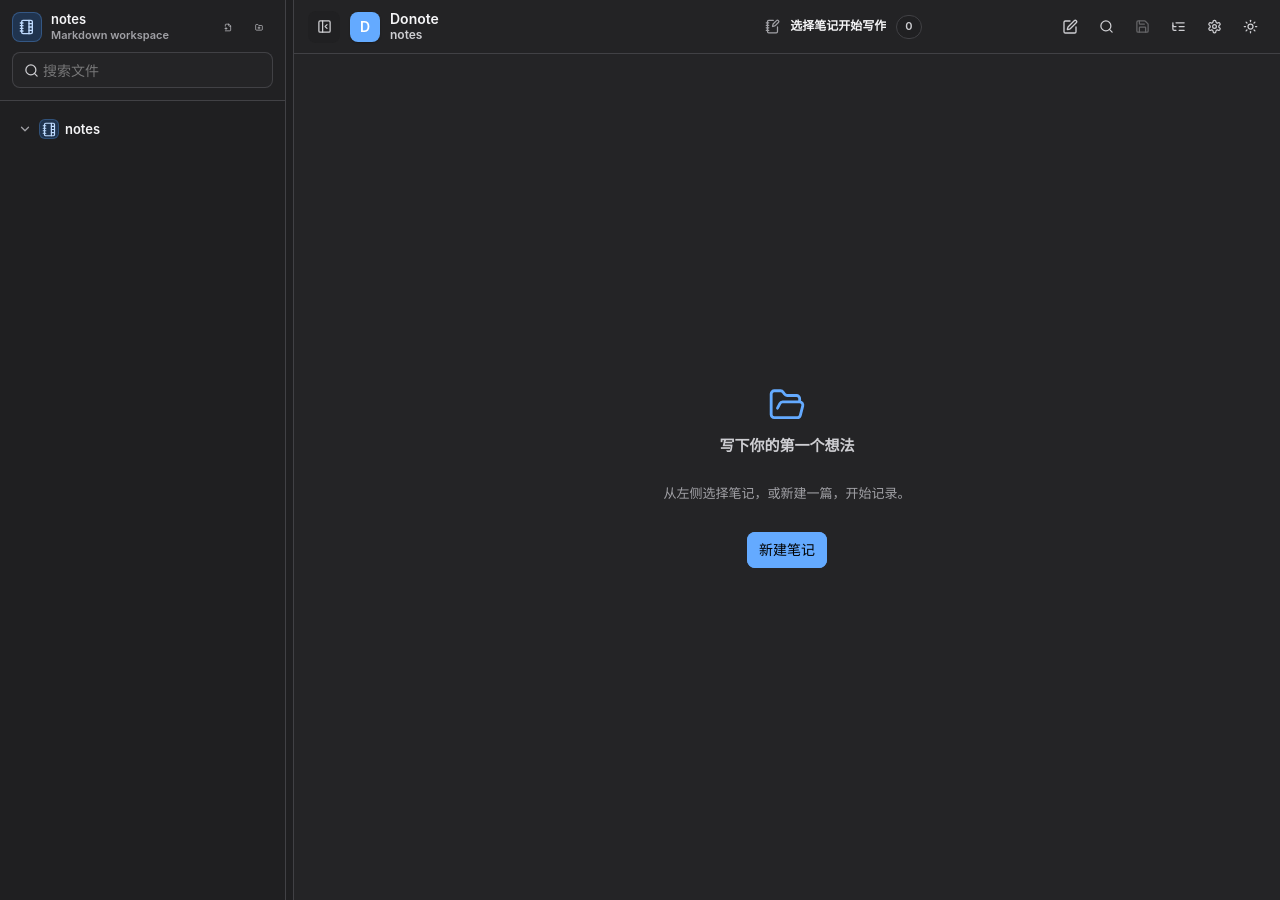
App shell › selects attachment directories through the native directory dialog
What coordinates should you click on to do the following:
click the button with test id "utility-settings"
I would click on:
 (1214, 26)
Its box is [1198,10,1230,42].
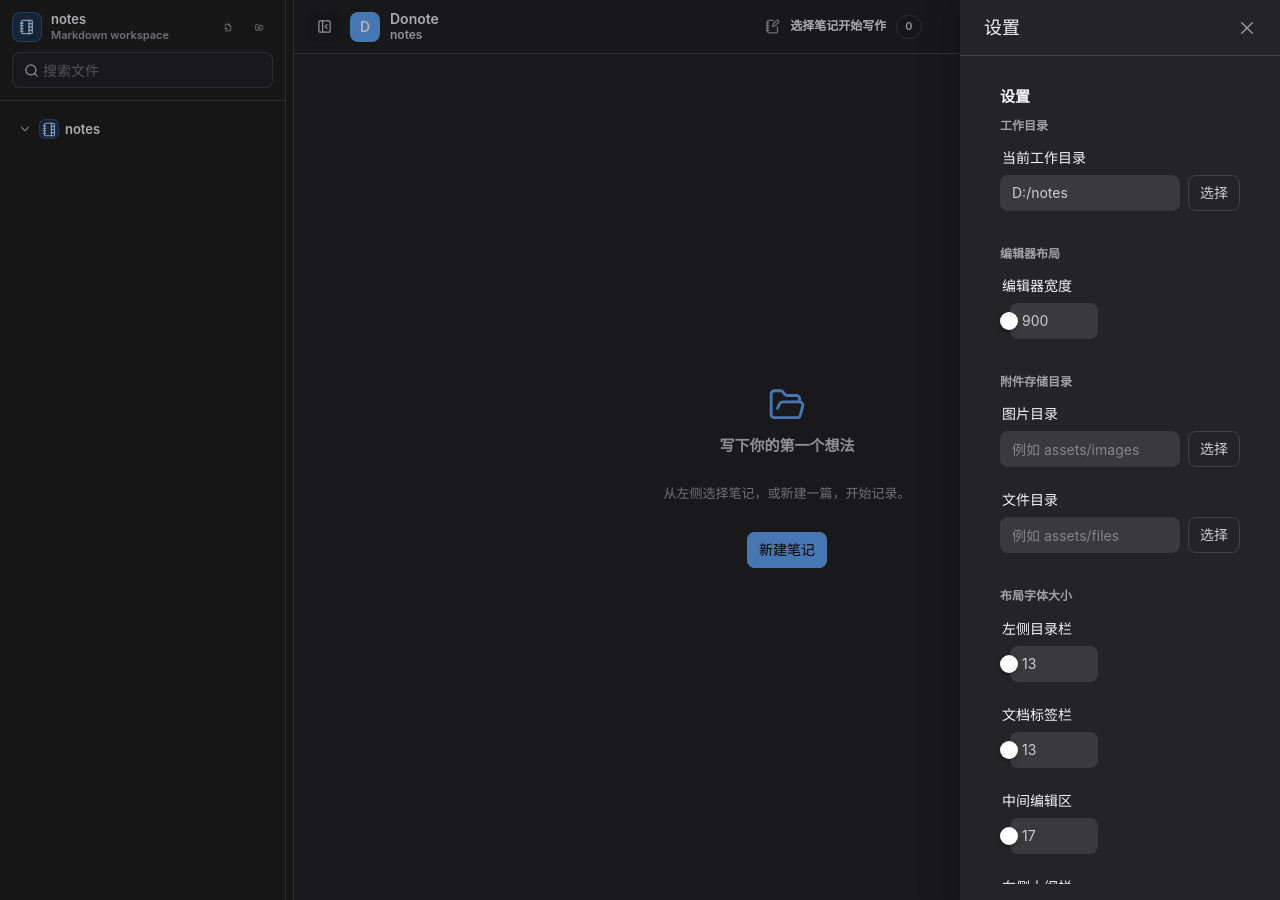
What coordinates should you click on to do the following:
click the button with test id "select-attachment-image-dir"
I would click on:
 (1214, 449)
Its box is [1188,431,1240,467].
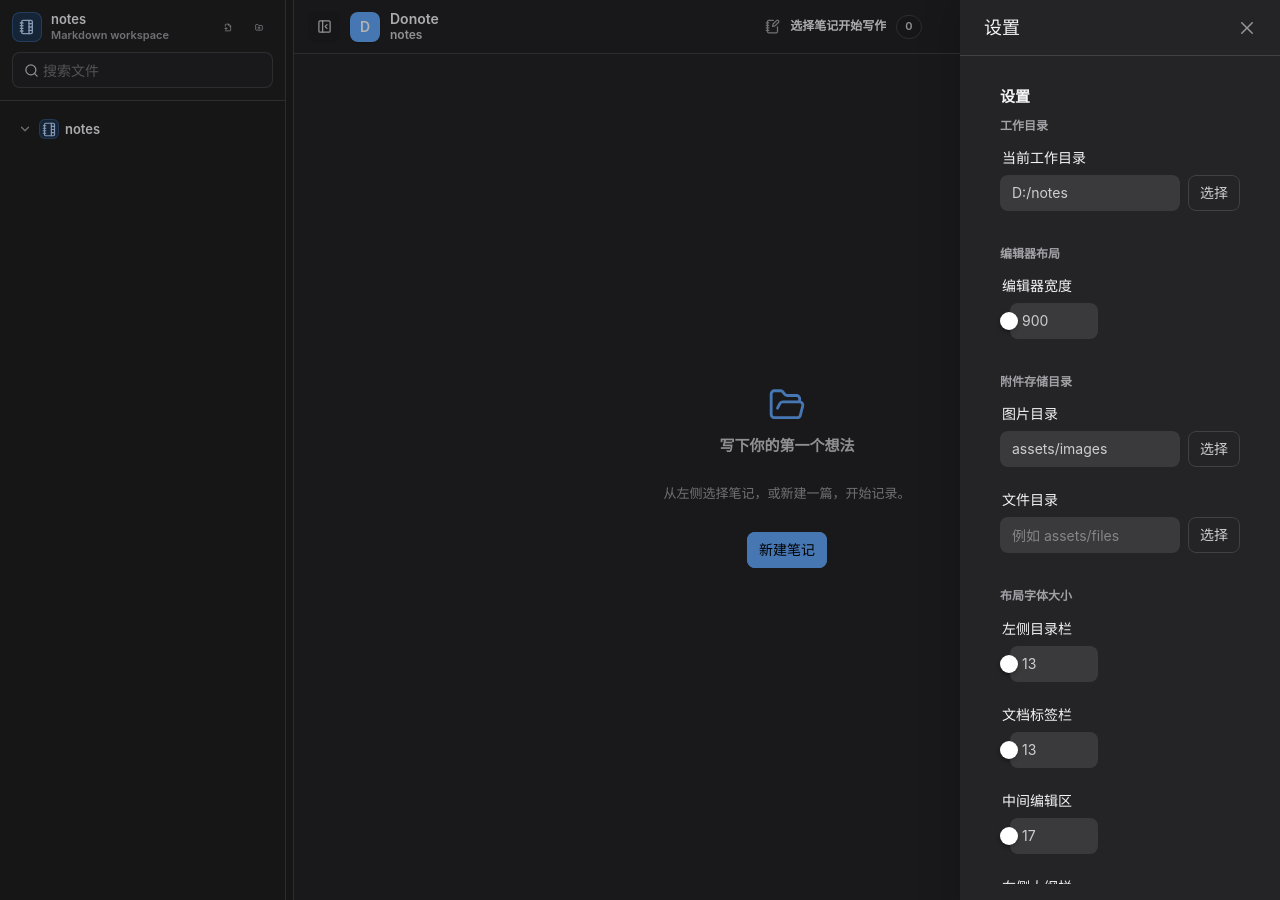
What coordinates should you click on to do the following:
click the button with test id "select-attachment-file-dir"
I would click on:
 (1214, 535)
Its box is [1188,517,1240,553].
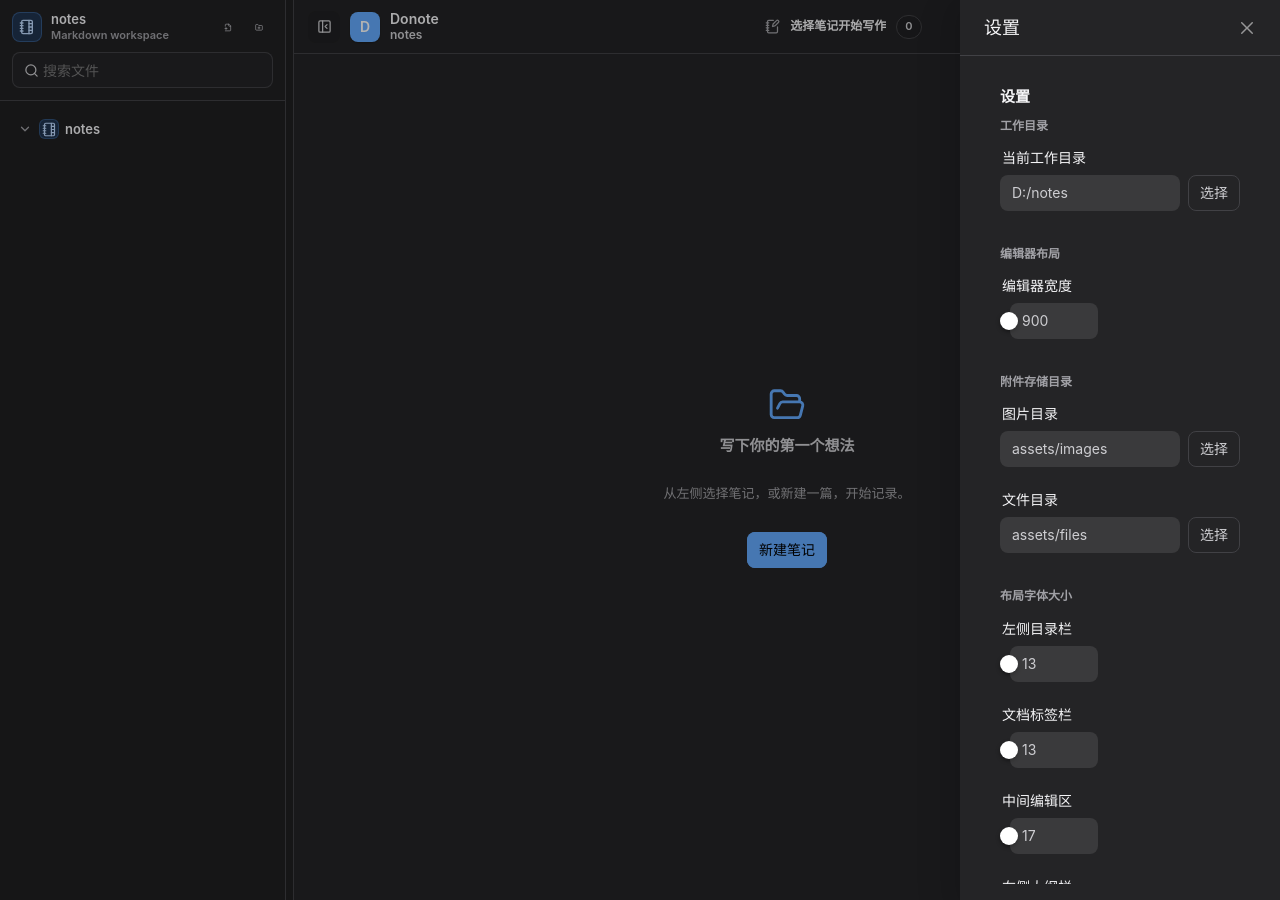
Check: the field with test id "attachment-image-dir" holds "assets/images", box [1012,431,1168,467]
Check: the field with test id "attachment-file-dir" holds "assets/files", box [1012,517,1168,553]
